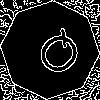Q: (25, 25, 88, 87)
